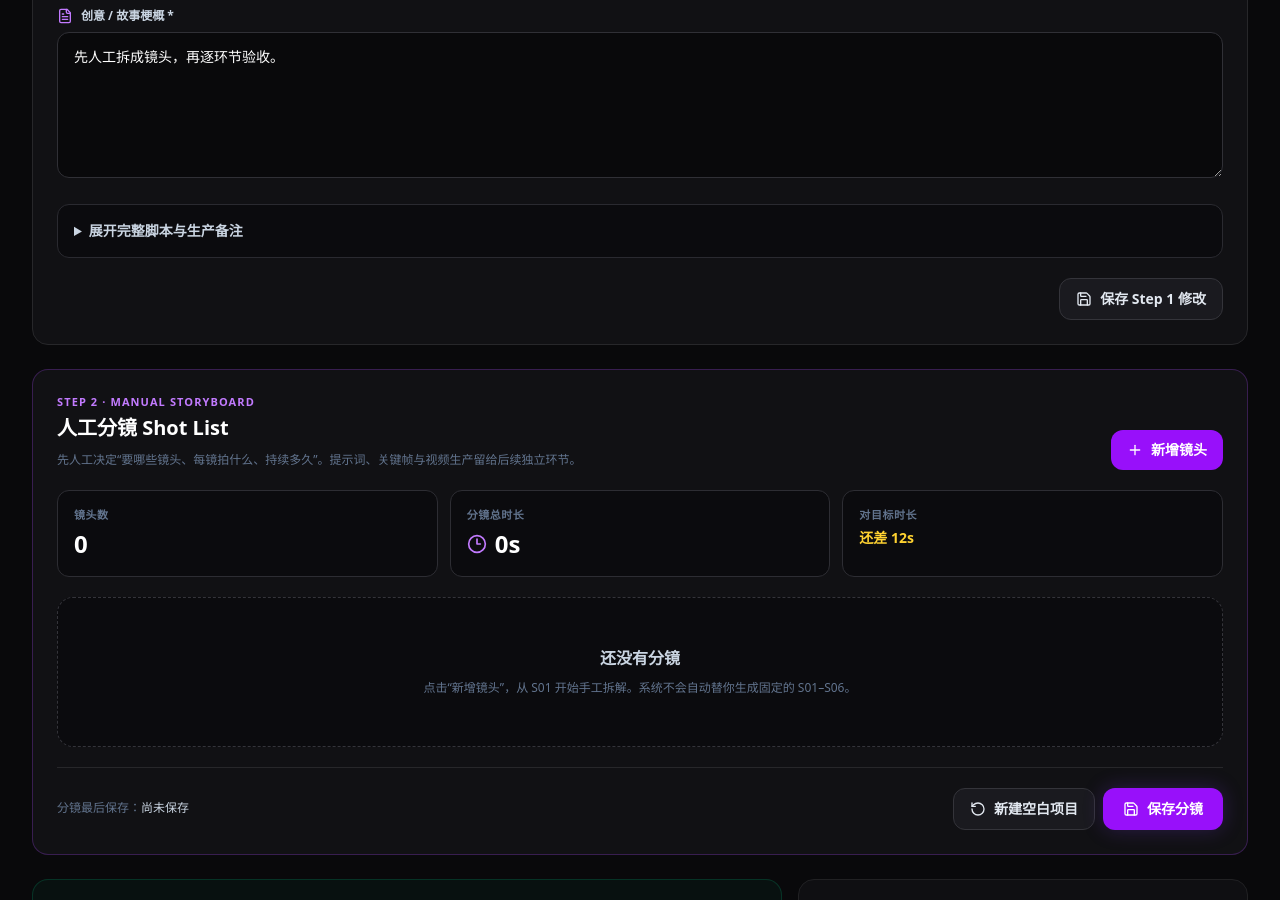
Test case: ScriptDirectorPage manual Step 2 storyboard › reorders and deletes shots while keeping visible S numbers continuous
(page scrolled)
Click the button "新增镜头" at x=1167, y=450, box [1111,430,1223,470]
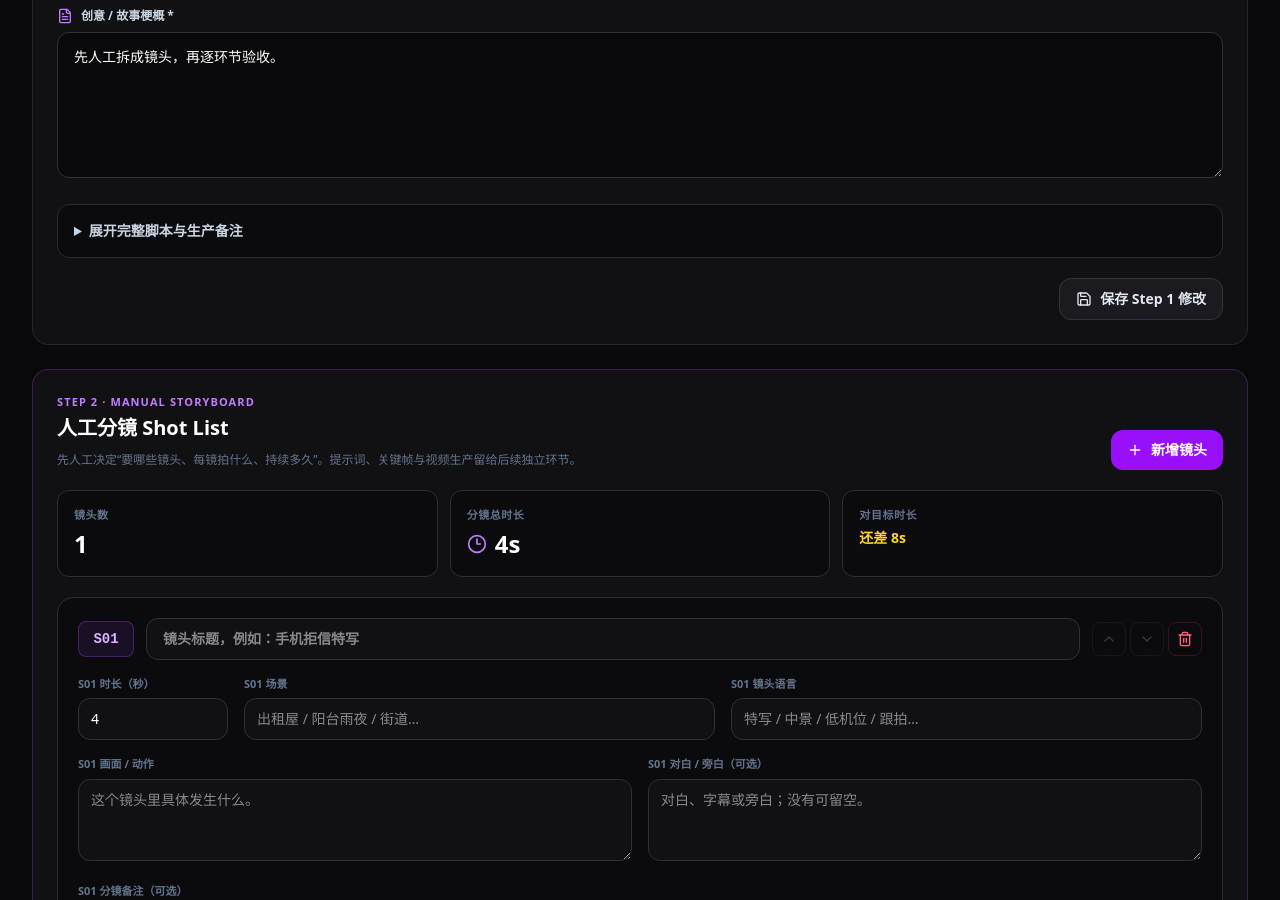
Click the button "新增镜头" at x=1167, y=450, box [1111,430,1223,470]
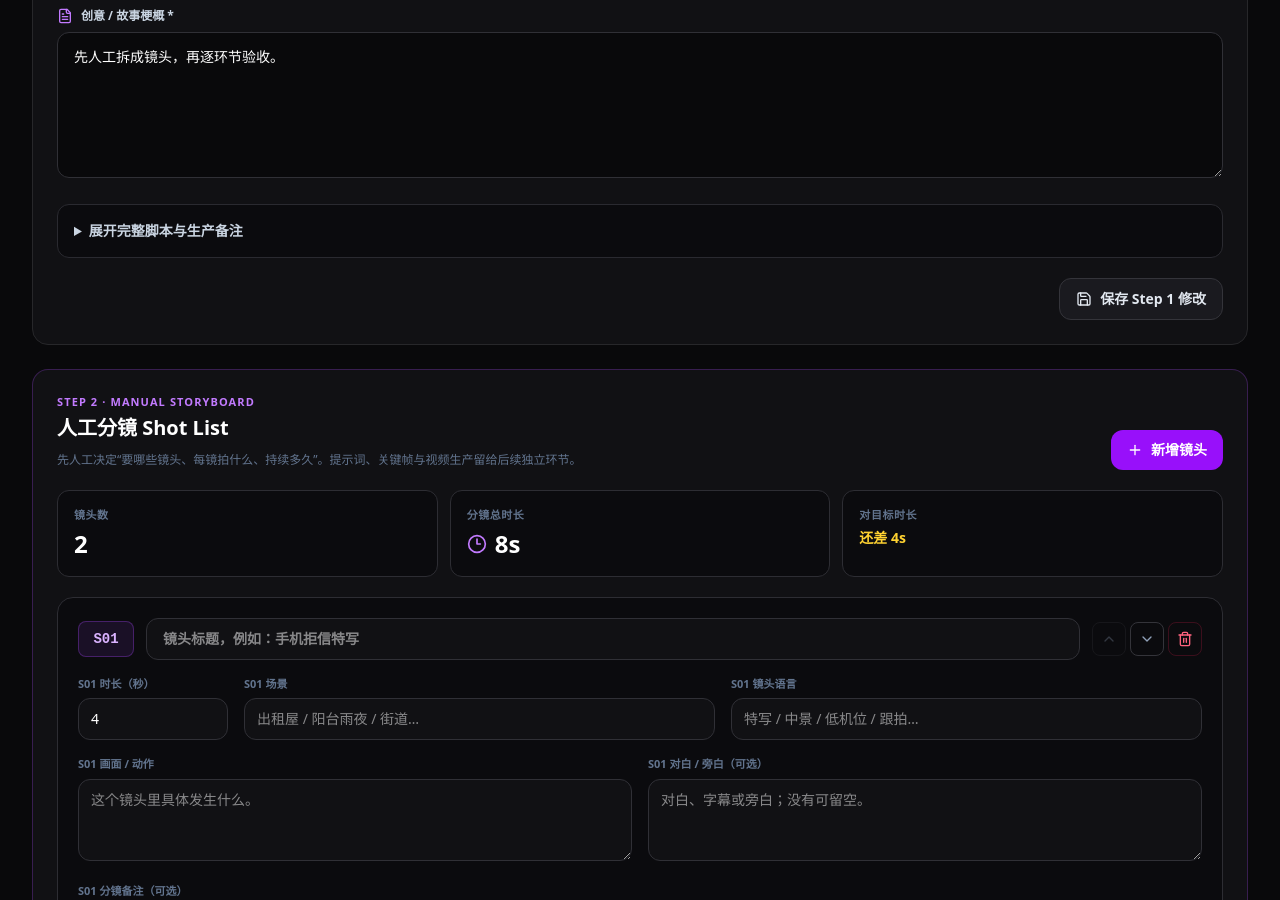
Type "A镜头" into the field named "S01 标题" at x=613, y=638, box [146,618,1080,660]
(page scrolled)
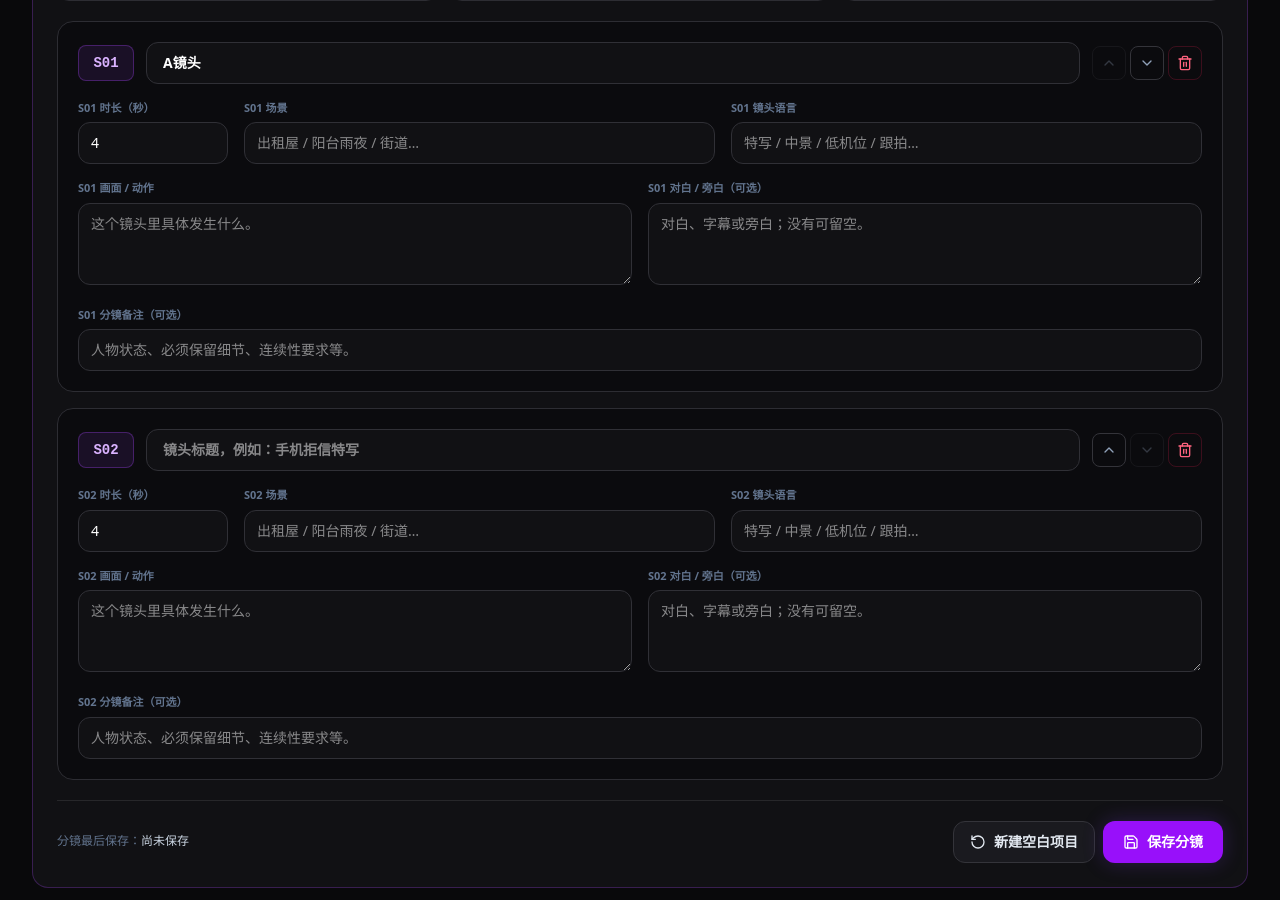
Type "B镜头" into the field named "S02 标题" at x=613, y=450, box [146,429,1080,471]
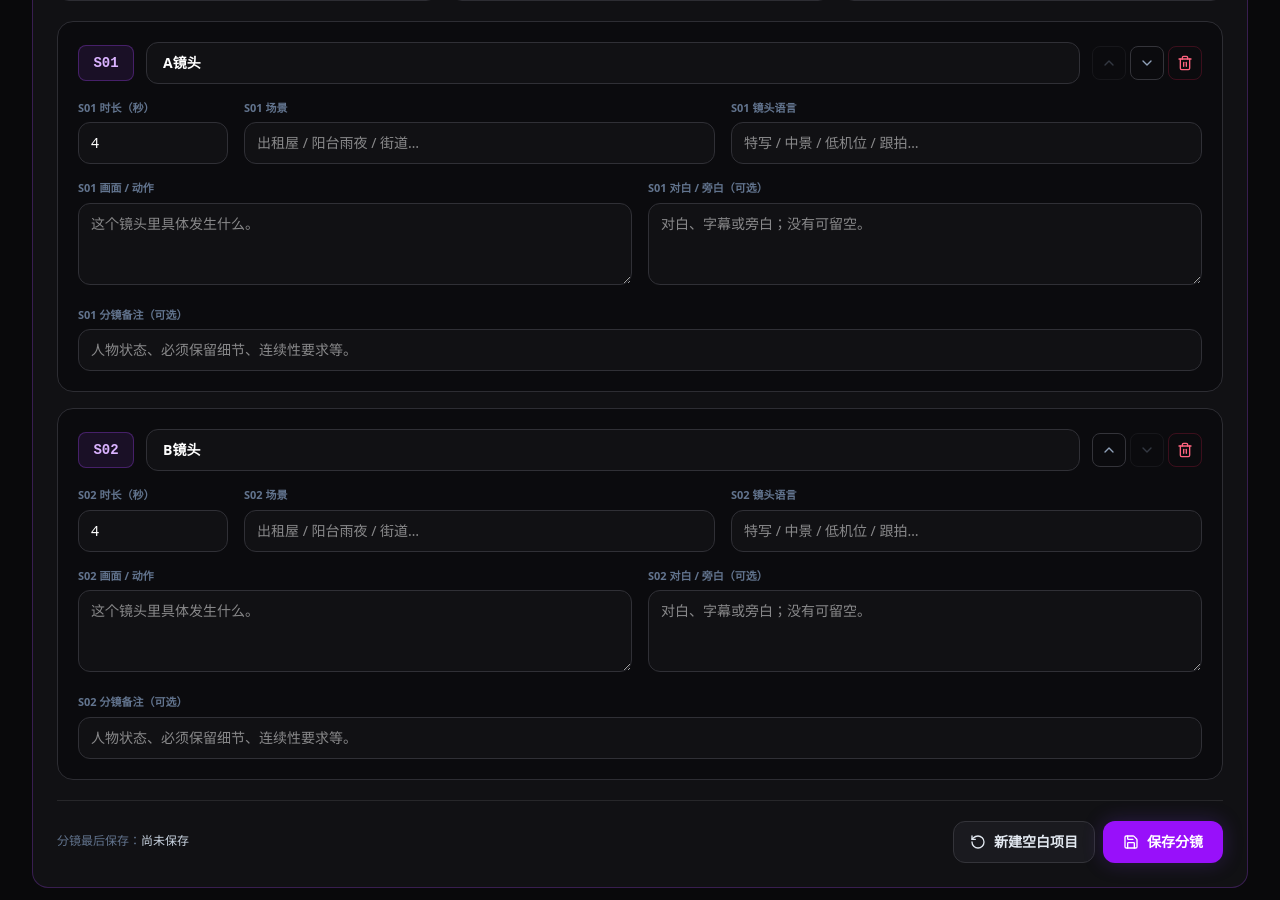
Click the button named "S02 上移" at x=1109, y=450, box [1092,433,1126,467]
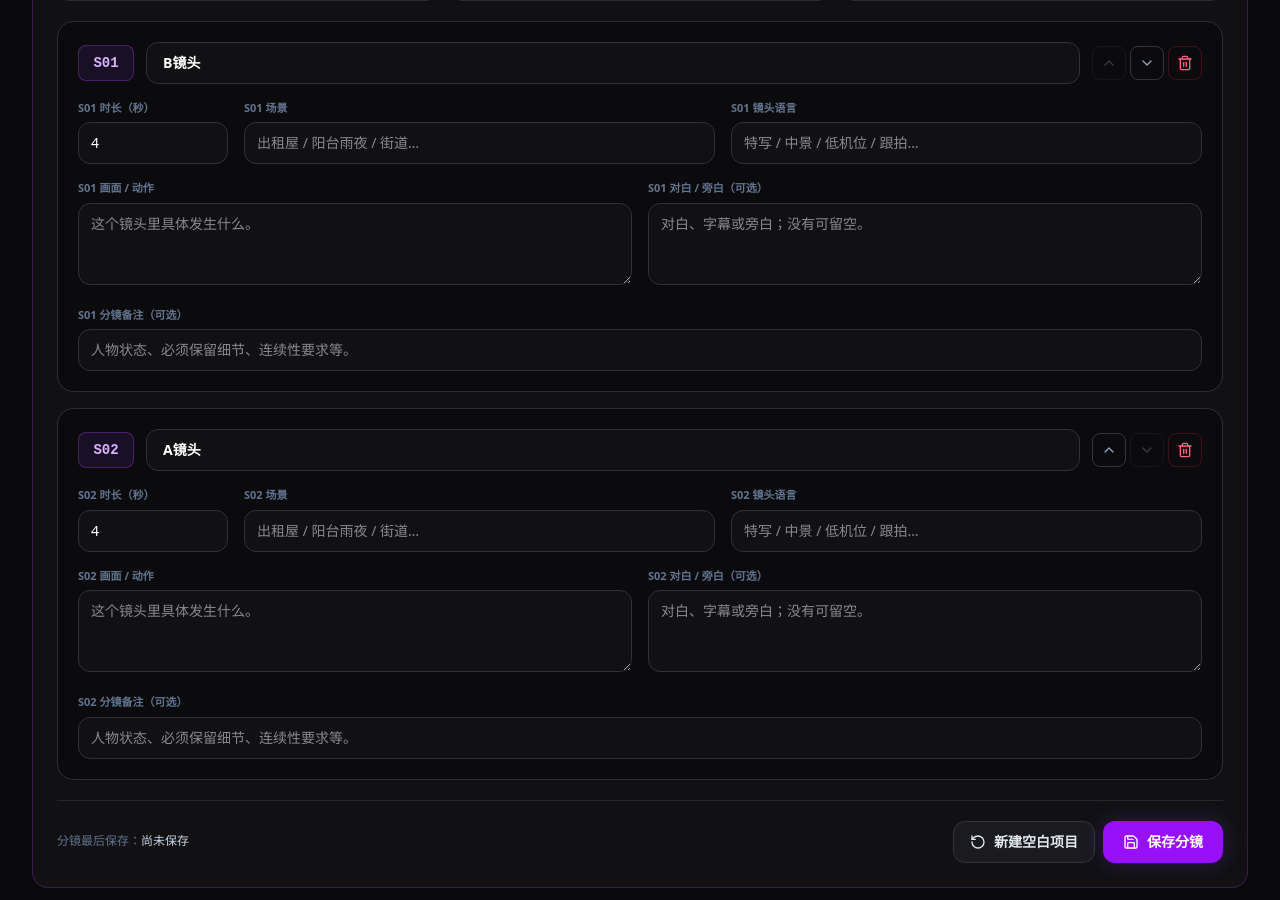
Click the button named "S02 删除" at x=1185, y=450, box [1168,433,1202,467]
(page scrolled)
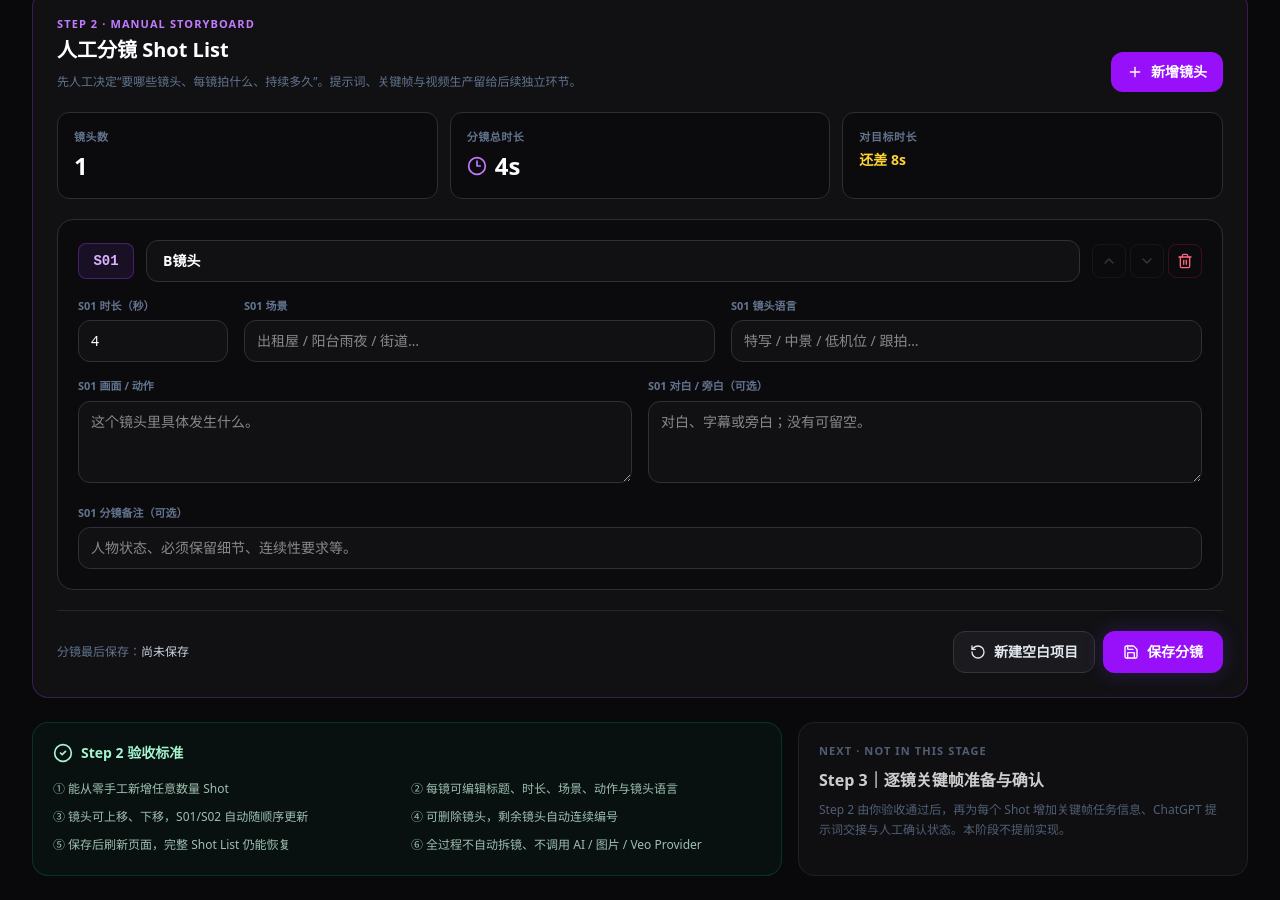
Expected: the field labelled "S02 标题" is not shown
Result: the text with test id "shot-count" reads "1" at [74,148,88,182]
